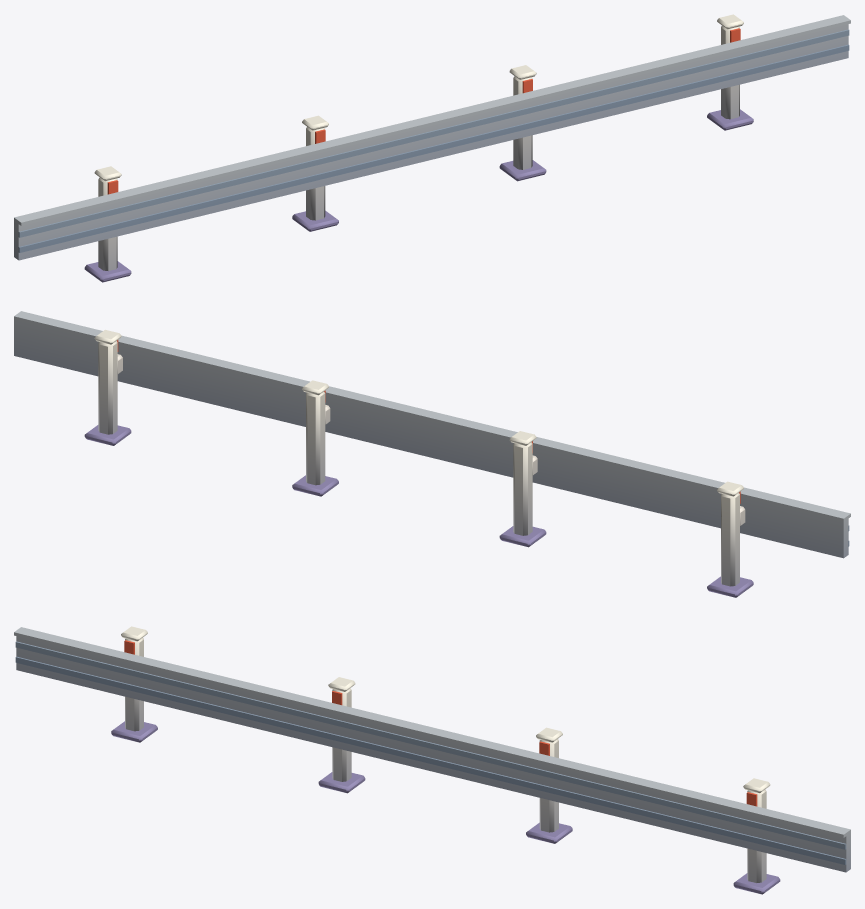
File: guardrail.glb
3 renders of one model, top to bottom at view 1: azimuth 30°, elevation 25°; view 2: azimuth 150°, elevation 25°; view 3: azimuth 330°, elevation 25°, orthographic.
Visible parts, largest first — view 1: guardrail; view 2: guardrail; view 3: guardrail.
Boxes of the visible parts, x1=… form: guardrail: x1=14, y1=14, x2=850, y2=282; guardrail: x1=14, y1=311, x2=850, y2=597; guardrail: x1=14, y1=626, x2=850, y2=894.
Bounding box in the file's own units: 8 × 0.9449 × 0.4302.
